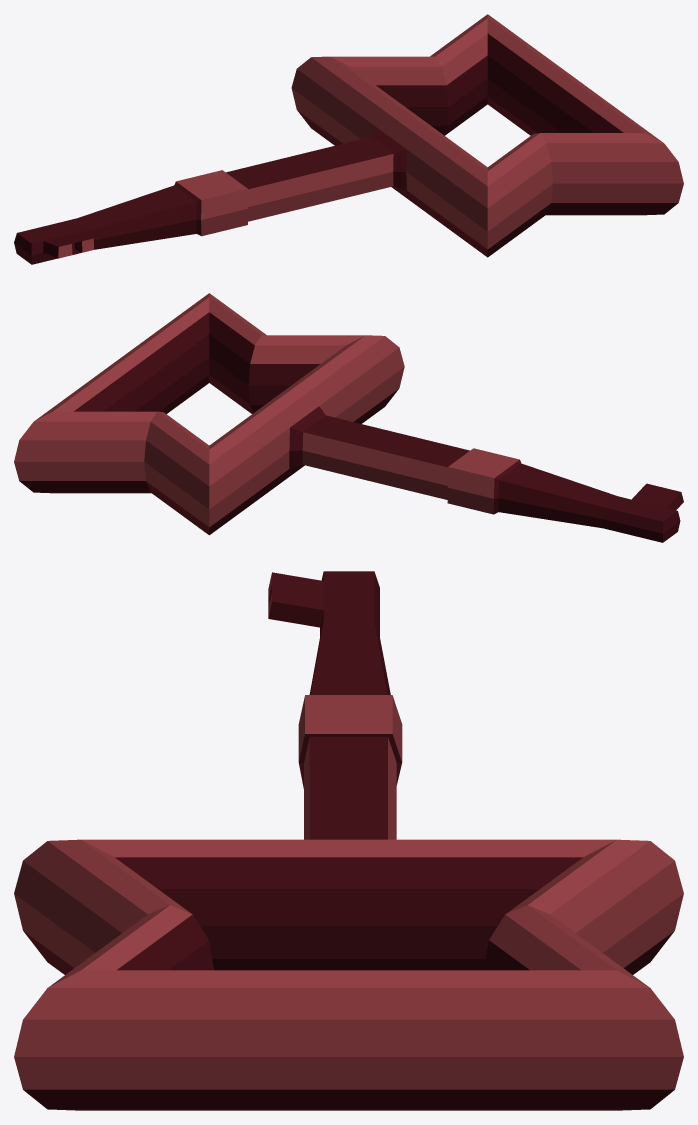
The model's file is MazeKeyvv5.glb.
The picture shows the model from 3 angles, top to bottom: view 1: azimuth 30°, elevation 25°; view 2: azimuth 150°, elevation 25°; view 3: azimuth 270°, elevation 25°; orthographic projection. The views are drawn at different scales.
Visible parts, largest first — view 1: Torus; view 2: Torus; view 3: Torus.
Part boxes in pixels (x1,y1,x2,y2): Torus: [14, 14, 683, 264]; Torus: [14, 293, 683, 542]; Torus: [14, 571, 683, 1110].
Size of the model in its own units: 3.58 by 0.5 by 2.17.
